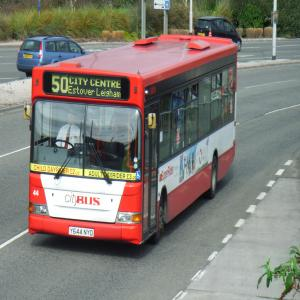Vehicle-registration-plate: (70, 227, 95, 239)
